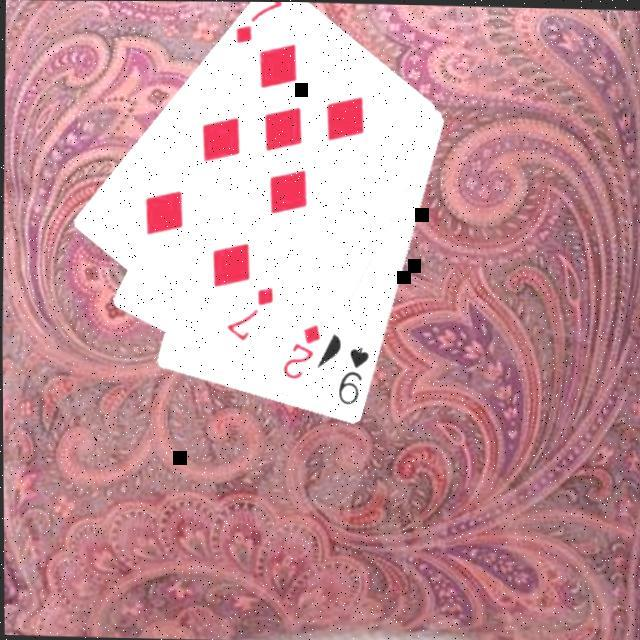2D: (277, 319, 322, 382)
7D: (221, 281, 276, 342), (229, 2, 284, 48)
9S: (332, 340, 372, 408)
